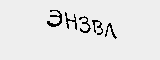В: (90, 19, 105, 37)
З: (78, 15, 90, 36)
Л: (103, 21, 120, 39)
Н: (64, 8, 78, 32)
Э: (45, 7, 63, 29)
